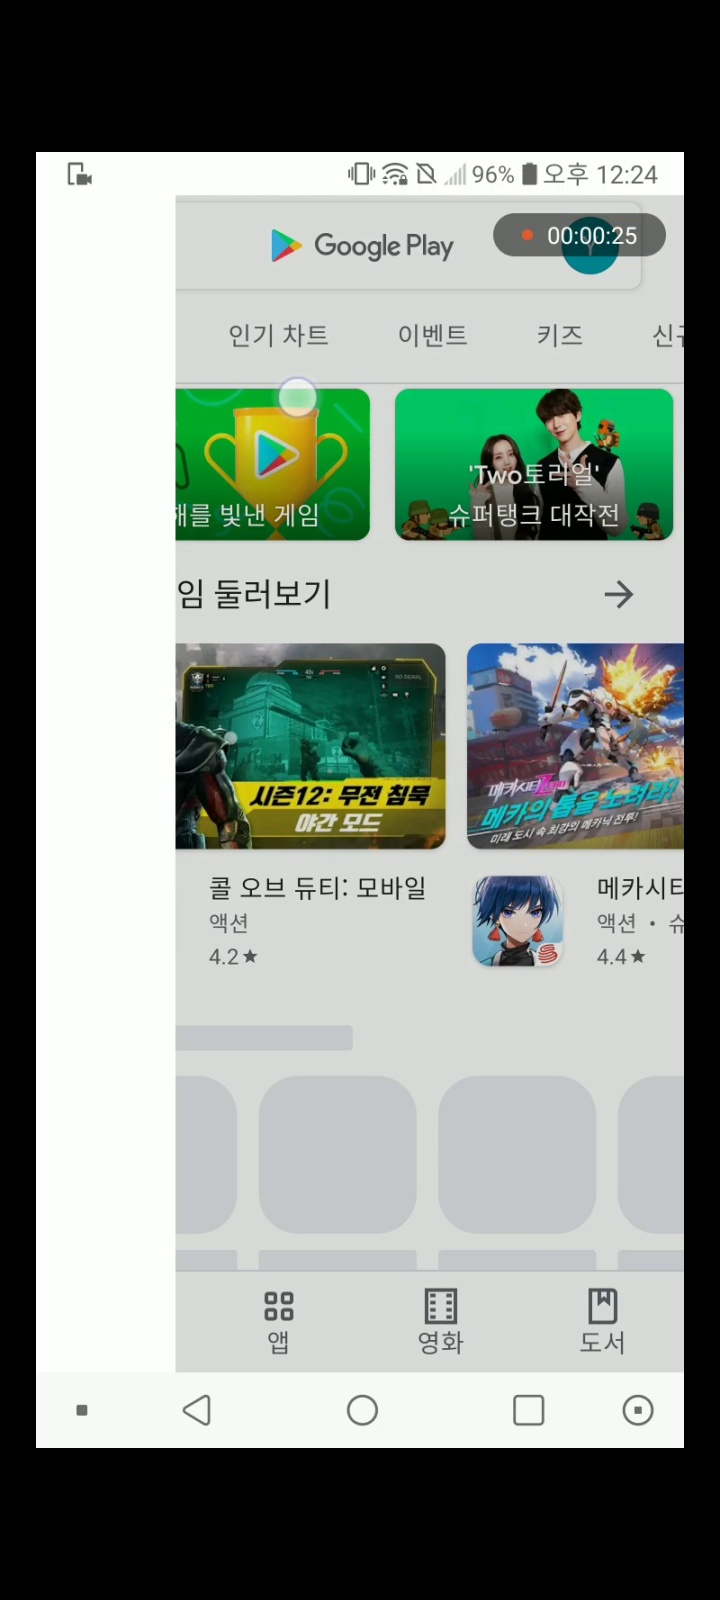Cursor: (276, 376, 321, 421)
